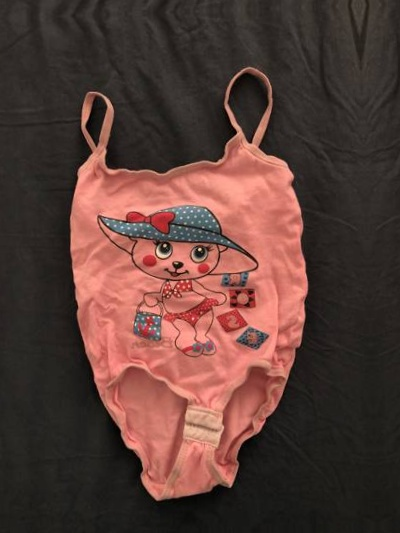Body: (29, 42, 323, 506)
